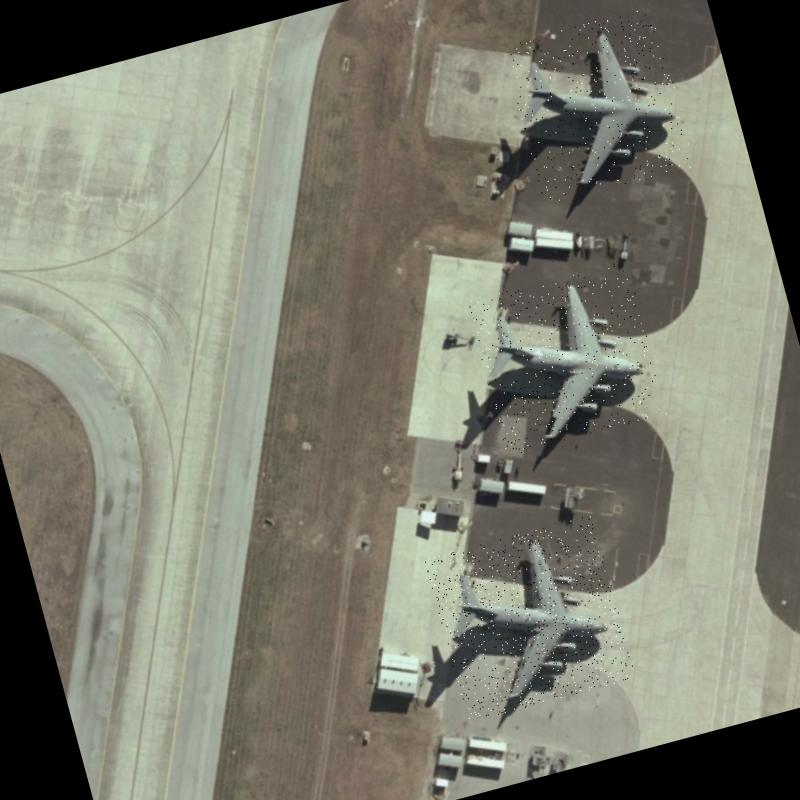A3: (424, 514, 636, 722), (466, 258, 668, 457), (502, 5, 696, 206)
